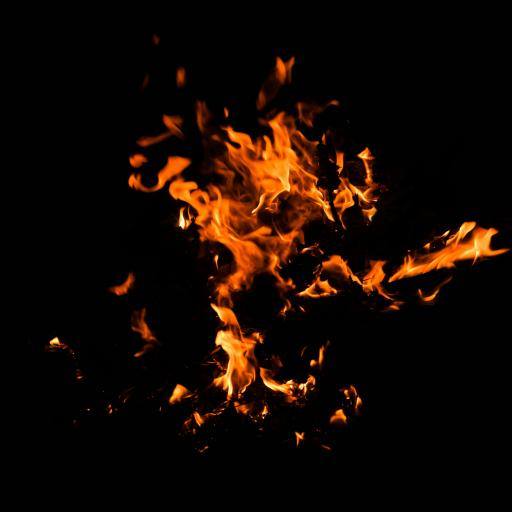fire: (20, 27, 512, 482)
